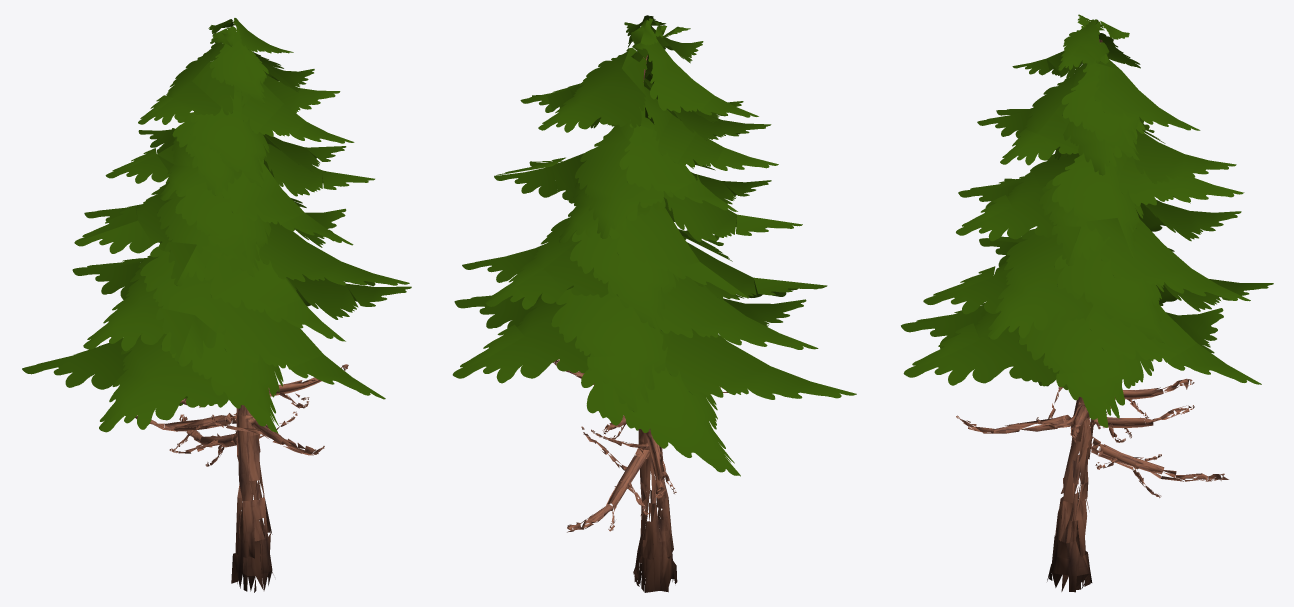
File: pine.gltf
3 views of the same model, side by side, from view 1: azimuth 30°, elevation 25°; view 2: azimuth 150°, elevation 25°; view 3: azimuth 270°, elevation 25° (orthographic). The views are drawn at different scales.
Parts seen in each view (by area): view 1: Pine_1; view 2: Pine_1; view 3: Pine_1.
Boxes of the visible parts, bbox=[...] form: Pine_1: bbox=[22, 18, 411, 592]; Pine_1: bbox=[452, 15, 856, 592]; Pine_1: bbox=[901, 14, 1273, 592].
Size of the model in its own units: 4.94 by 7.33 by 4.54.
2 materials, 2 textured.
